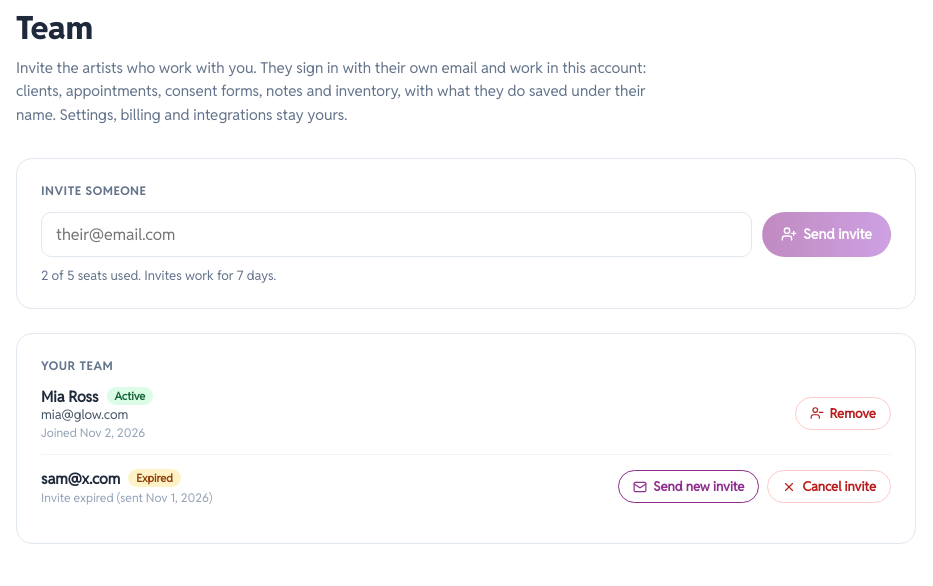
Team page › clears the invite box's error once the owner does something else
This screenshot has width=933, height=586.
Type "taken@x.com" into the field named "Email to invite" at (397, 234), box left=41, top=212, right=752, bottom=257
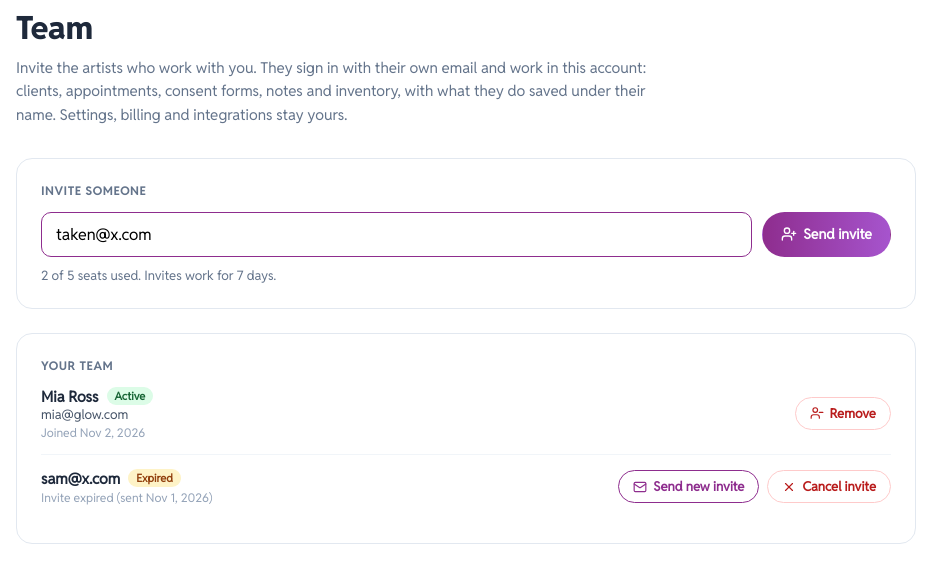
Click the button "Send invite" at (827, 234), box left=762, top=212, right=891, bottom=257
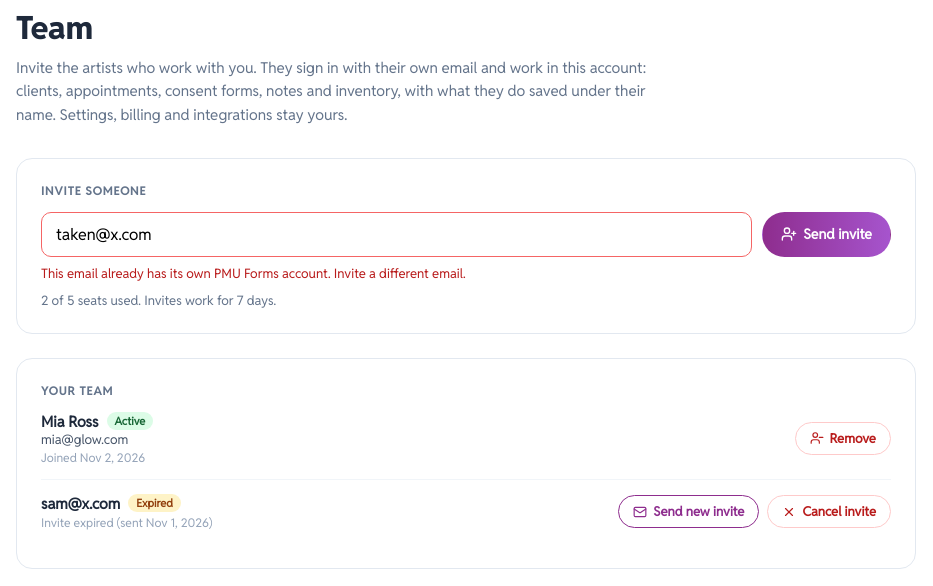
expect the message "This email already has its own PMU Forms account. Invite a different email." is shown: met, box left=41, top=265, right=466, bottom=282
Click the button "Send new invite" at (689, 512), box left=618, top=495, right=760, bottom=528
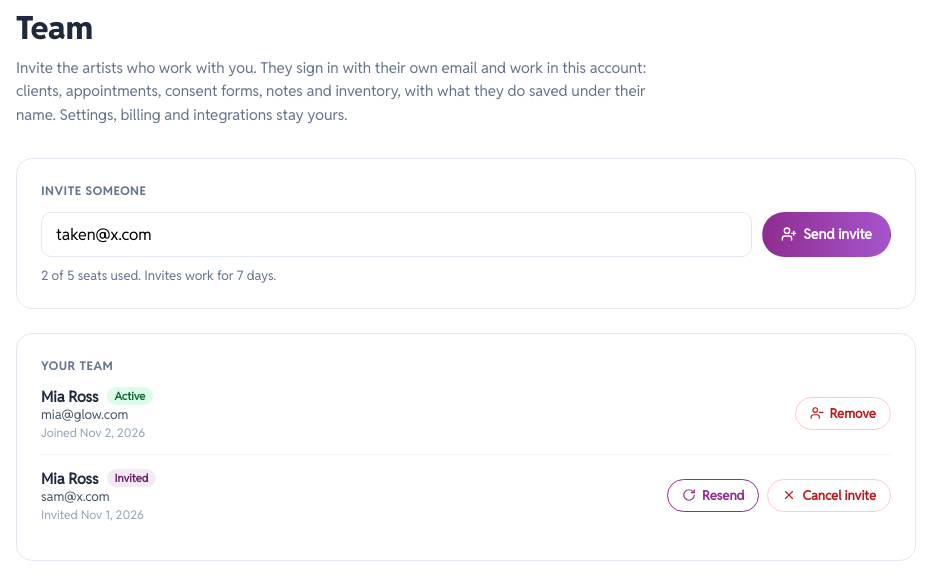
expect the message "This email already has its own PMU Forms account. Invite a different email." is gone: met
